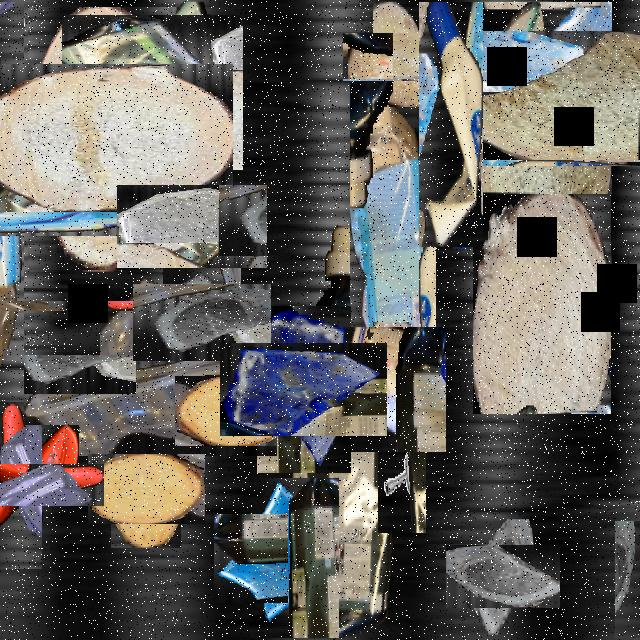glass: (239, 324, 369, 455), (232, 496, 356, 620), (134, 168, 250, 284), (148, 268, 256, 376), (445, 73, 551, 179), (458, 532, 548, 620), (0, 433, 73, 537), (615, 521, 640, 638)
metal: (378, 448, 426, 533), (0, 2, 24, 112)
plastic: (288, 226, 396, 638), (62, 317, 240, 494), (0, 106, 129, 341), (69, 8, 237, 177), (350, 62, 436, 372), (419, 2, 483, 247), (346, 327, 446, 452), (0, 232, 79, 379), (5, 425, 79, 567)
wood: (0, 35, 204, 241), (473, 187, 611, 414), (462, 16, 626, 180), (99, 442, 193, 536), (358, 18, 437, 96)
